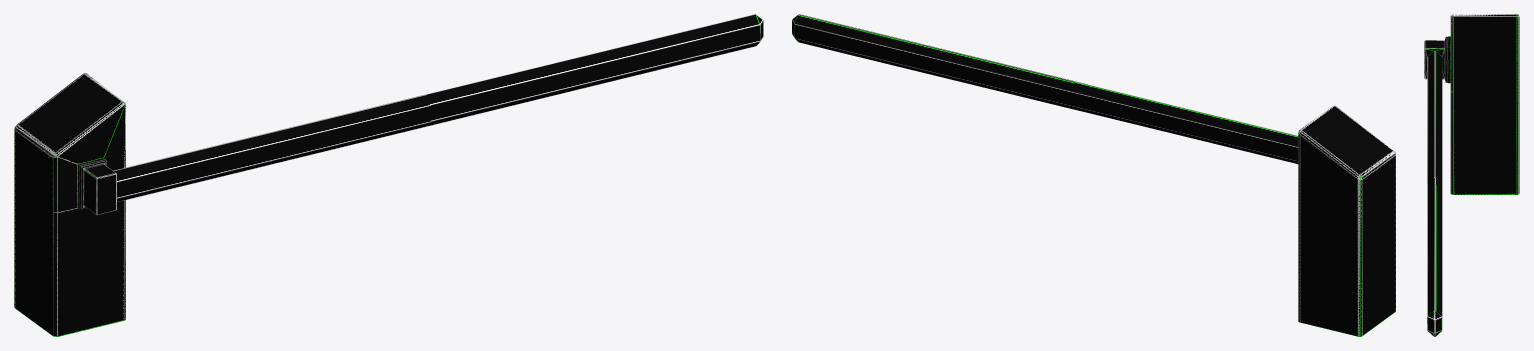
Rendered from Guard Barrier.FBX.
3 views of the same model, side by side, from view 1: azimuth 30°, elevation 25°; view 2: azimuth 150°, elevation 25°; view 3: azimuth 270°, elevation 25° (orthographic). The views are drawn at different scales.
Parts seen in each view (by area): view 1: Box001; view 2: Box001; view 3: Box001.
Boxes of the visible parts, x1=… form: Box001: x1=14, y1=14, x2=763, y2=336; Box001: x1=792, y1=14, x2=1395, y2=336; Box001: x1=1424, y1=14, x2=1519, y2=336.
Size of the model in its own units: 95.22 by 28.4 by 13.58.
